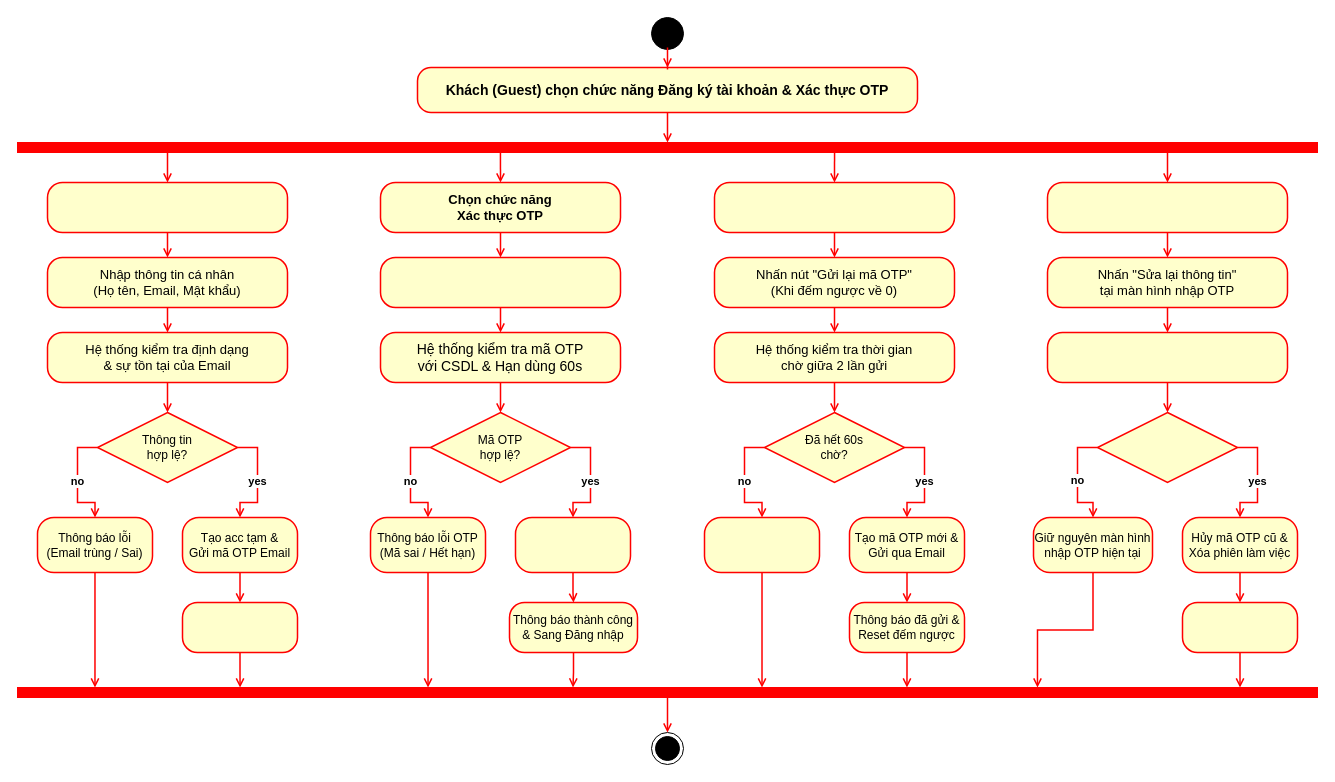
The diagram is 1335 pixels wide and 782 high, and some of its shapes have lost their labels. The shapes that lost their labels are listed below. From the top down, each one's centre as x and y in pixels, then its label:
(x=167, y=207): Chọn chức năng Đăng ký tài khoản
(x=834, y=207): Chọn chức năng Gửi lại mã OTP
(x=1167, y=207): Chọn chức năng Sửa thông tin đăng ký
(x=500, y=282): Nhập 6 số mã OTP & Nhấn "Kích hoạt tài khoản"
(x=1167, y=357): Hệ thống yêu cầu xác nhận hủy phiên OTP hiện tại
(x=1167, y=447): Xác nhận hủy?
(x=572, y=544): Kích hoạt tài khoản chính thức vào CSDL
(x=761, y=544): Thông báo chờ hết đếm ngược
(x=239, y=627): Màn hình nhập OTP (60s)
(x=1239, y=627): Chuyển về Form đăng ký ban đầu
